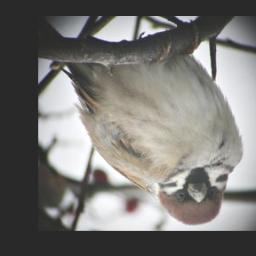Sparrow: (60, 20, 243, 226)
